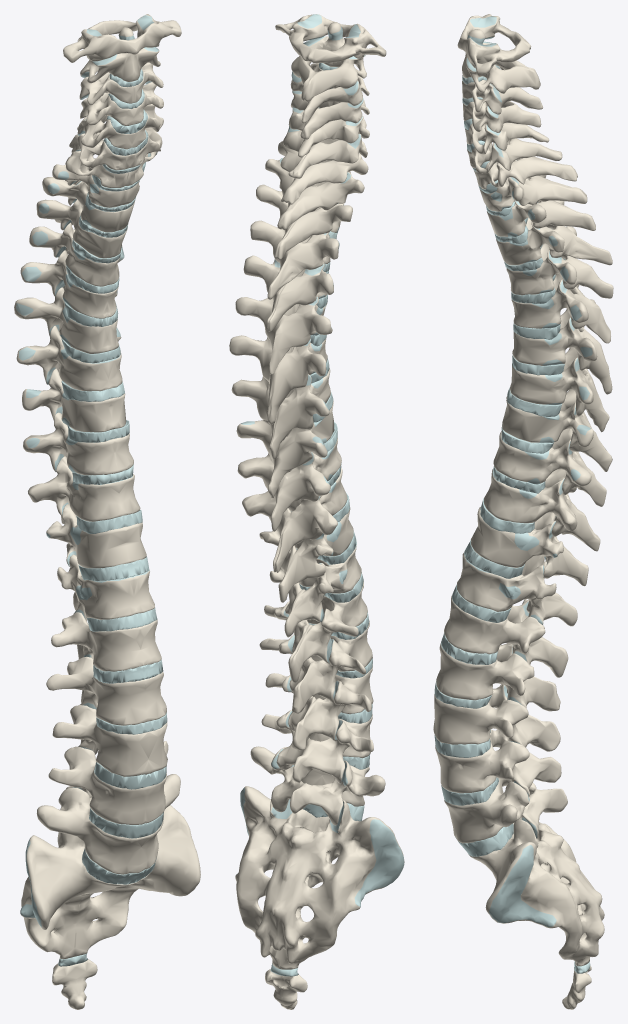
File: spine.glb
3 views of the same model, side by side, from view 1: azimuth 30°, elevation 25°; view 2: azimuth 150°, elevation 25°; view 3: azimuth 270°, elevation 25° (orthographic). The views are drawn at different scales.
Visible parts, largest first — view 1: Sacrum, Vertebra L5, Vertebra L2, Vertebra L3, Vertebra L4, Vertebra L1, Vertebra T10, Vertebra T12, Vertebra T9, Vertebra T11, Vertebra T7, Atlas (C1) (+28 smaller); view 2: Sacrum, Vertebra L5, Vertebra L4, Vertebra T10, Vertebra L3, Vertebra L2, Vertebra L1, Vertebra T6, Vertebra T7, Vertebra T9, Vertebra T5, Vertebra T8 (+16 smaller); view 3: Sacrum, Vertebra L3, Vertebra L2, Vertebra L1, Vertebra T12, Vertebra L4, Vertebra L5, Vertebra T10, Vertebra T11, Vertebra T9, Vertebra T8, Vertebra T7 (+27 smaller).
Boxes of the visible parts, x1,y1,x2,y2 form: Sacrum: (20, 805, 200, 959); Vertebra L5: (36, 774, 180, 874); Vertebra L2: (46, 656, 166, 725); Vertebra L3: (52, 705, 167, 776); Vertebra L4: (48, 741, 168, 824); Vertebra L1: (51, 612, 161, 671); Vertebra T10: (28, 456, 140, 523); Vertebra T12: (57, 554, 154, 621); Vertebra T9: (23, 412, 133, 475); Vertebra T11: (46, 504, 146, 568); Vertebra T7: (16, 325, 122, 391); Atlas (C1): (63, 14, 181, 62); Sacrum: (235, 786, 404, 969); Vertebra L5: (250, 746, 385, 825); Vertebra L4: (261, 710, 373, 783); Vertebra T10: (242, 467, 347, 572); Vertebra L3: (265, 664, 373, 750); Vertebra L2: (259, 620, 372, 713); Vertebra L1: (264, 581, 367, 682); Vertebra T6: (229, 335, 327, 424); Vertebra T7: (231, 368, 330, 458); Vertebra T9: (237, 438, 341, 531); Vertebra T5: (235, 295, 332, 374); Vertebra T8: (236, 401, 334, 499); Sacrum: (468, 782, 604, 966); Vertebra L3: (433, 684, 560, 751); Vertebra L2: (436, 643, 560, 711); Vertebra L1: (444, 596, 568, 677); Vertebra T12: (457, 552, 577, 626); Vertebra L4: (435, 729, 561, 796); Vertebra L5: (444, 778, 567, 843); Vertebra T10: (484, 468, 600, 551); Vertebra T11: (471, 507, 588, 586); Vertebra T9: (493, 428, 606, 506); Vertebra T8: (502, 389, 612, 471); Vertebra T7: (510, 347, 609, 432).
Size of the model in its own units: 0.1229 by 0.7225 by 0.1202.
